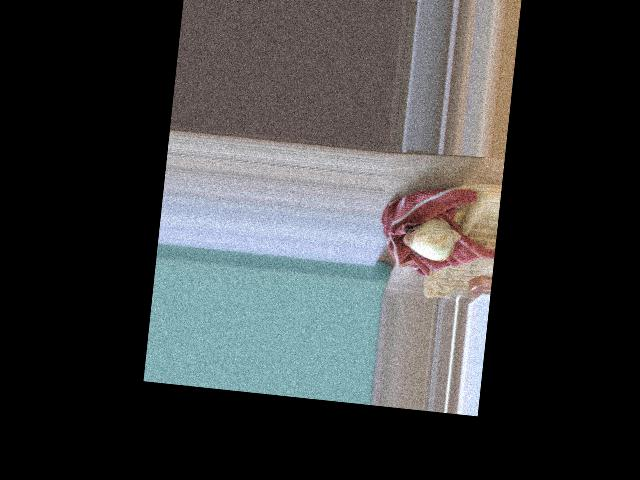onion: (404, 213, 458, 265)
